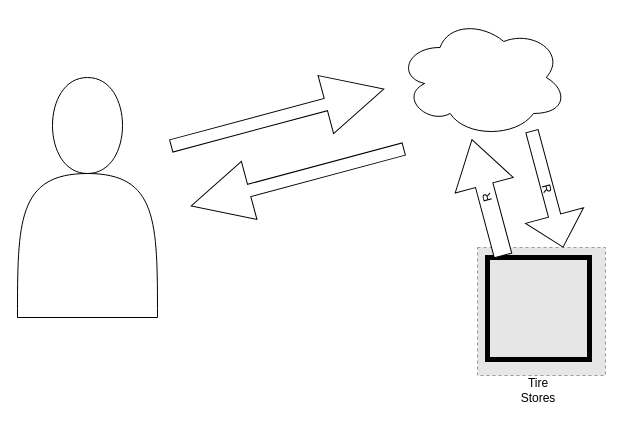
The diagram is 623 pixels wide and 423 high, and some of its shapes have lost their labels. Grey dashed boxes stand in for pictures. The box of each missing label's shape, as (x1, y1, x2, y2) in pixels:
Customer: (16, 76, 158, 318)
Sevice: (396, 16, 568, 138)
